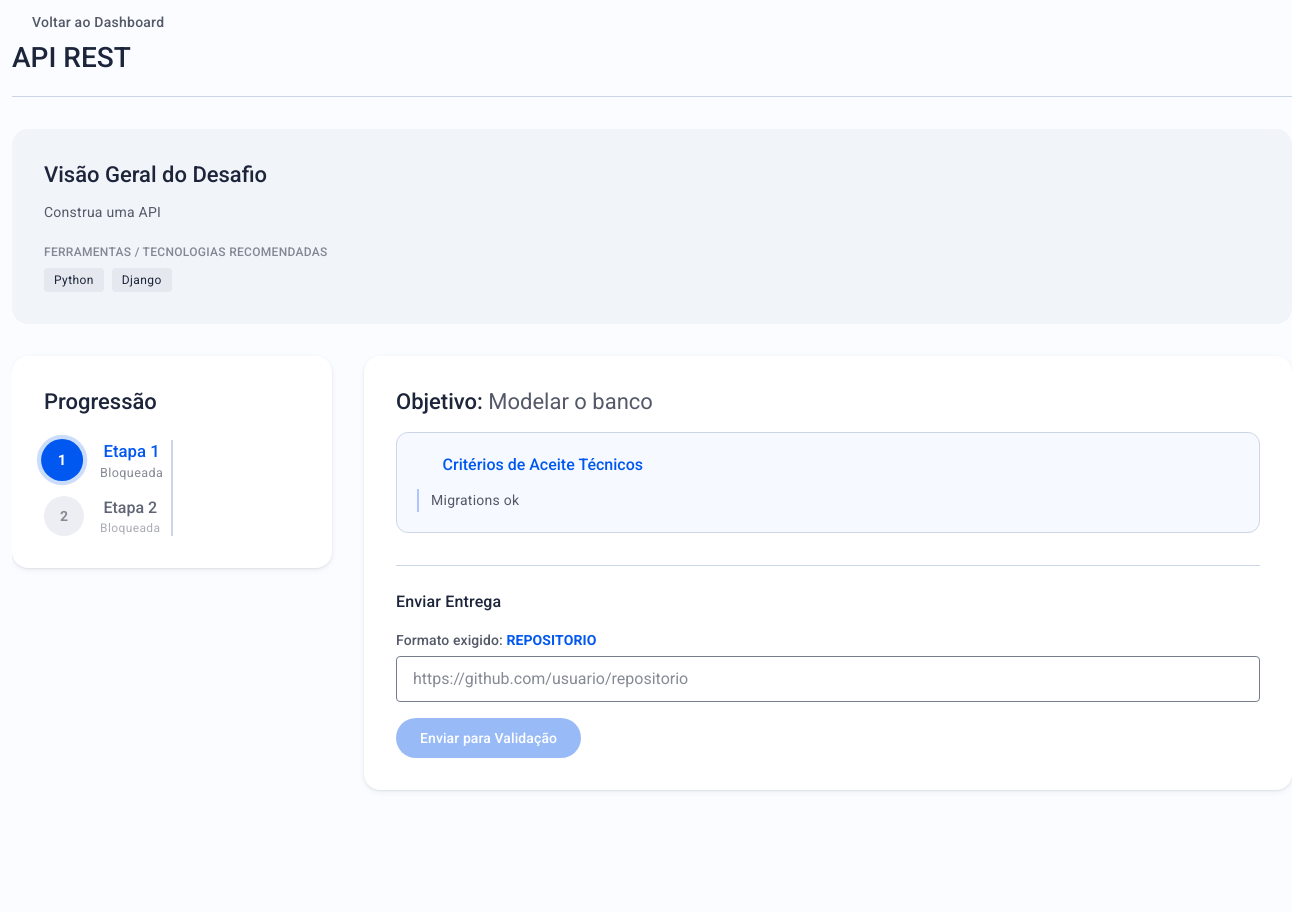
Test case: ProjectWorkspace › envia a entrega com a etapa ativa e o link do repositório
Type "https://github.com/aluno/api" into the field with placeholder "https://github.com/usuario/repositorio" at coordinates (828, 678), box [396,656,1260,702]
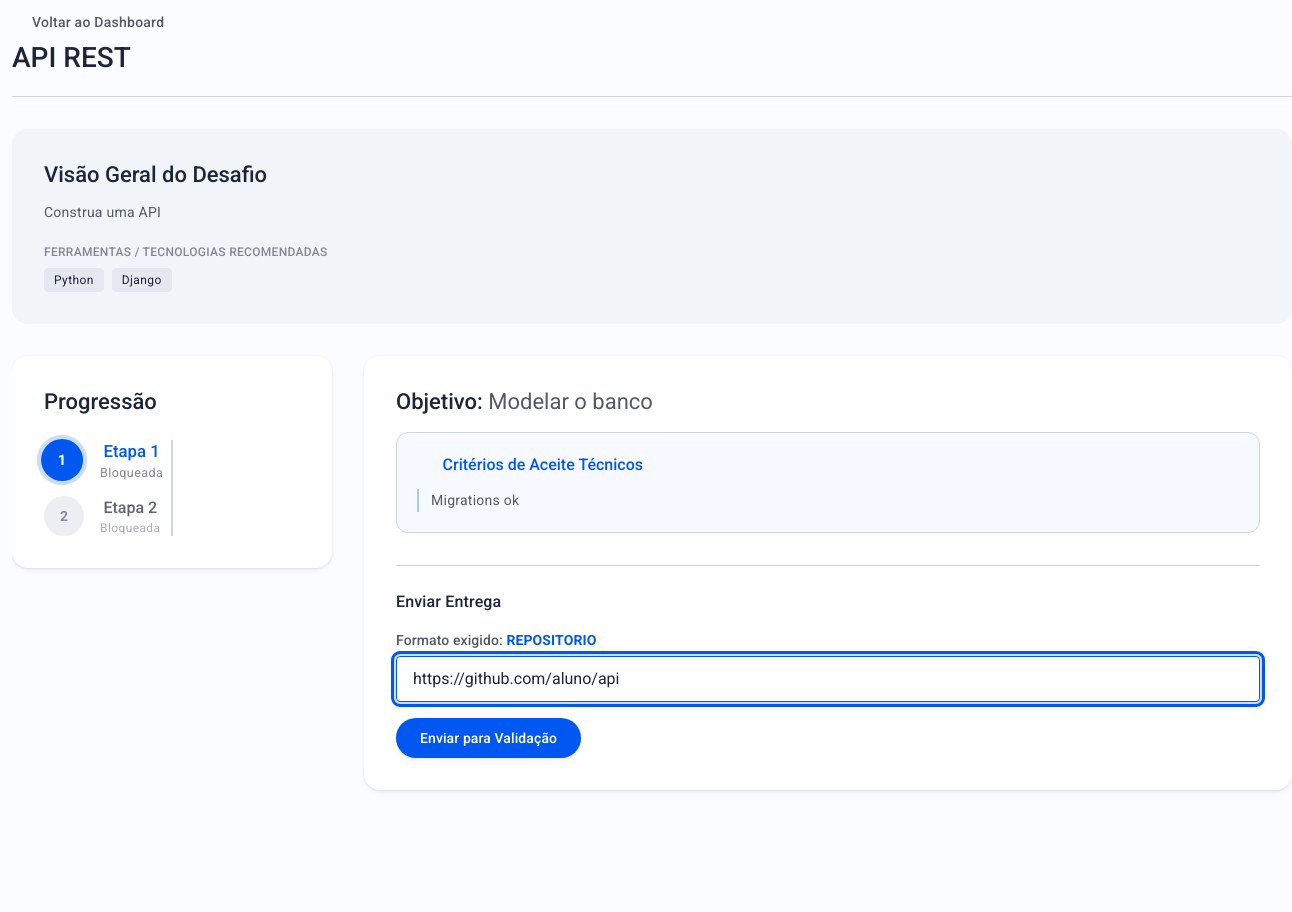
Click the button "Enviar para Validação" at coordinates (489, 738), box [396,718,581,758]
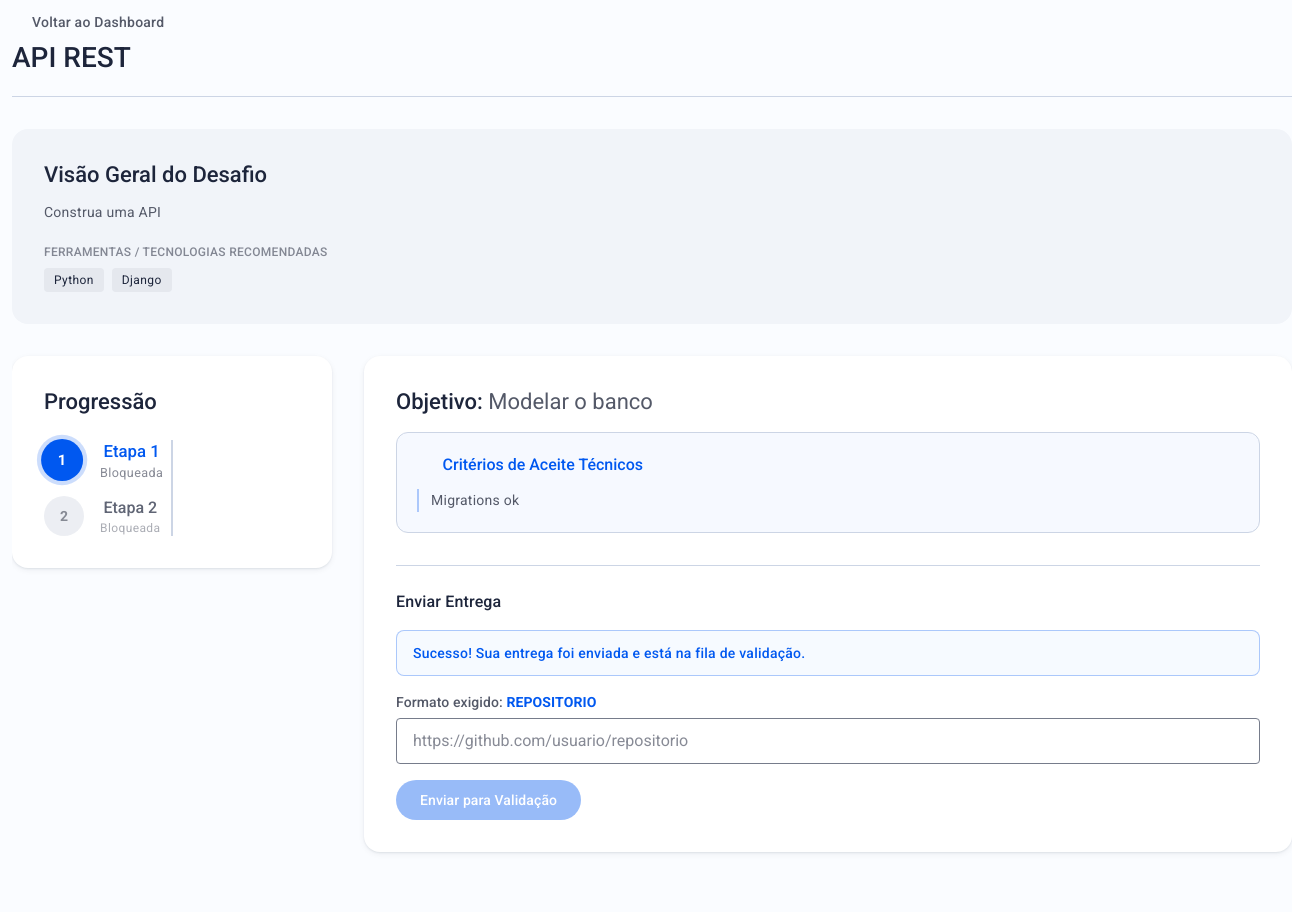
Expected: the text "Sucesso! Sua entrega foi enviada" is shown, [413,644,805,660]
